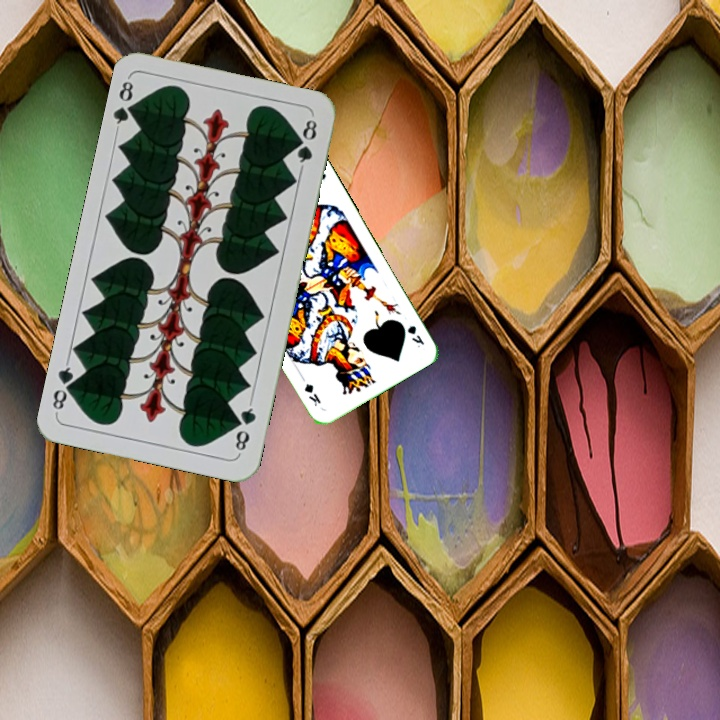G8: (110, 74, 141, 133), (231, 398, 259, 457)
GK: (403, 321, 427, 350)
